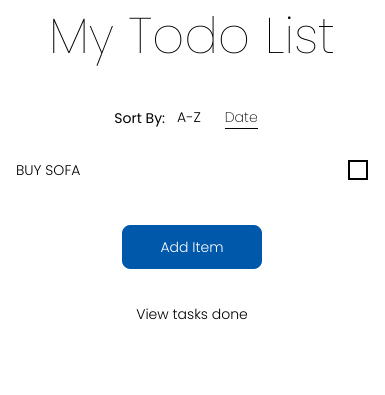
Test: task-done presence after clicking the  tasks done button
Step 1. Click the button "View tasks done" → [192, 315], box left=124, top=293, right=260, bottom=337
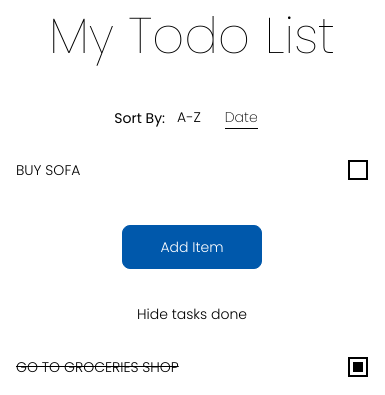
Result: the heading "Go to groceries shop" is shown at left=16, top=357, right=179, bottom=378
